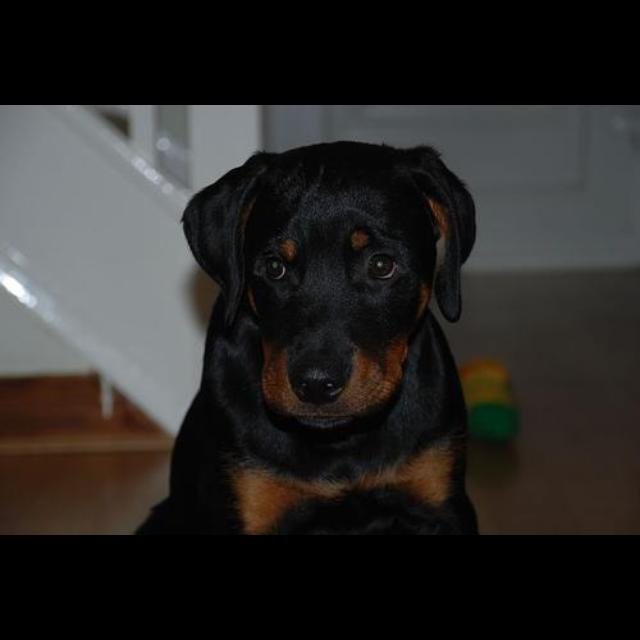rottweiler: (130, 140, 483, 535)
